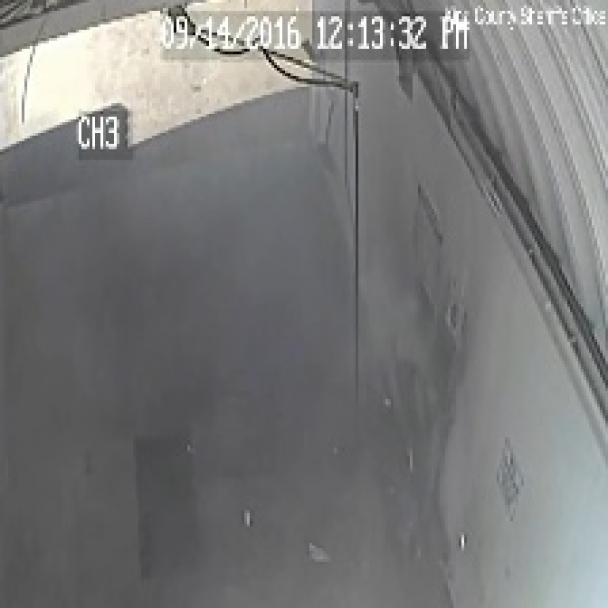smoke: (19, 27, 605, 605)
